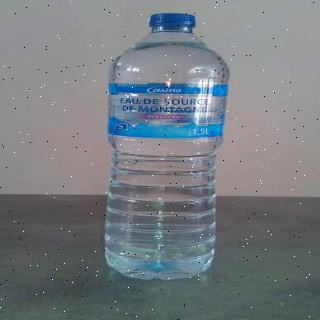Plastic-bottle: (104, 11, 238, 283)
